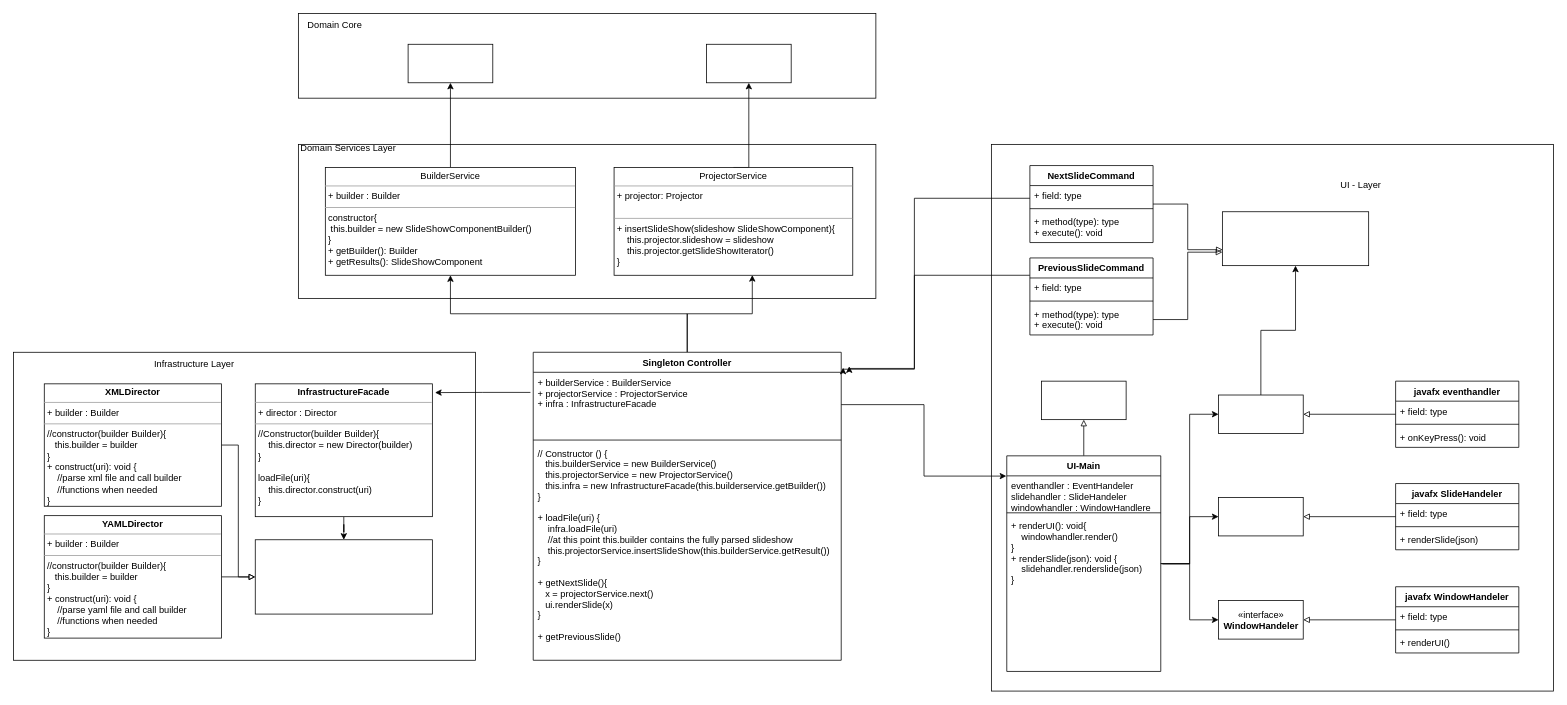
Some shapes in this 1567 by 705 pixel diagram are drawn without their labels. Each missing label, with the centre of its shape:
<<Interface>> Builder: the point at 450,63
<<Interface>> Command + execute: void: the point at 1295,238
<<Interface>> DirectorStrategy + construct(String): { }: the point at 343,576
Projector: the point at 748,63
«interface» EventHandler: the point at 1260,414
«interface» GUI: the point at 1083,400
«interface» SlideHandeler: the point at 1260,516
